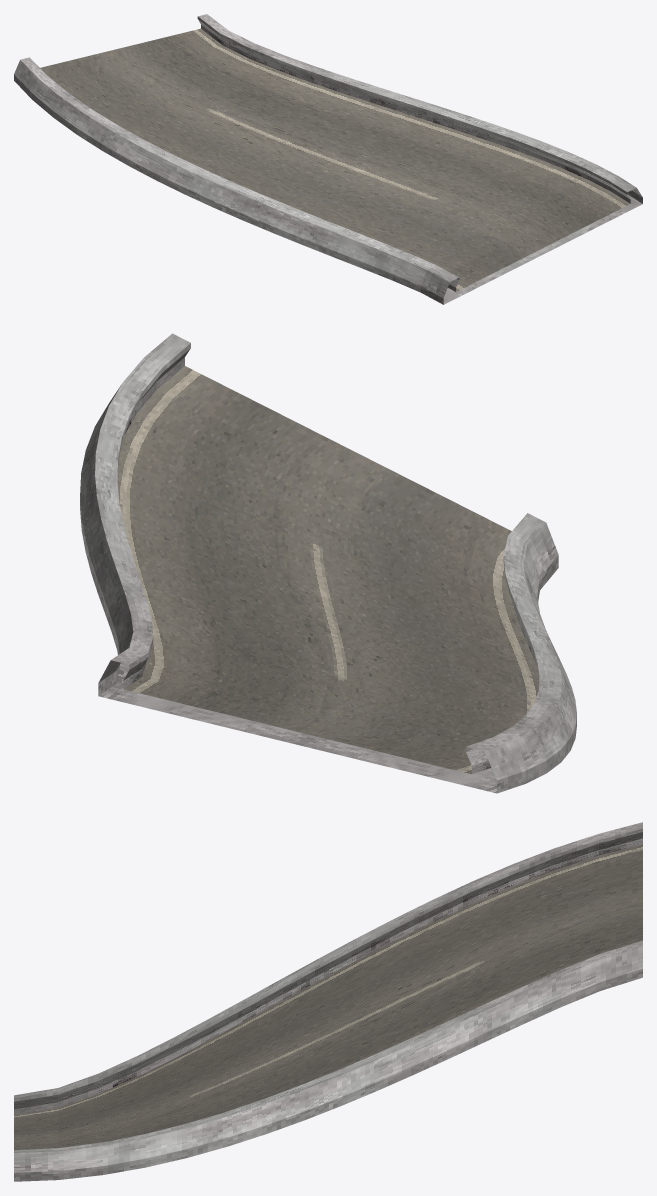
Rendered from road-Chicane-HalfBankedLeft-BiSlopeUp-Up2-Left1-Size2.glb.
3 renders of one model, top to bottom at view 1: azimuth 30°, elevation 25°; view 2: azimuth 150°, elevation 25°; view 3: azimuth 270°, elevation 25°, orthographic. The views are drawn at different scales.
Parts seen in each view (by area): view 1: road-Chicane-HalfBankedLeft-BiSlopeUp-Up2-Left1-Size2; view 2: road-Chicane-HalfBankedLeft-BiSlopeUp-Up2-Left1-Size2; view 3: road-Chicane-HalfBankedLeft-BiSlopeUp-Up2-Left1-Size2.
Boxes of the visible parts, x1=… form: road-Chicane-HalfBankedLeft-BiSlopeUp-Up2-Left1-Size2: x1=14, y1=14, x2=642, y2=304; road-Chicane-HalfBankedLeft-BiSlopeUp-Up2-Left1-Size2: x1=80, y1=333, x2=576, y2=793; road-Chicane-HalfBankedLeft-BiSlopeUp-Up2-Left1-Size2: x1=14, y1=822, x2=642, y2=1181.
Bounding box in the file's own units: 2 × 0.5937 × 2.
Materials: 2 (2 with a texture image).
